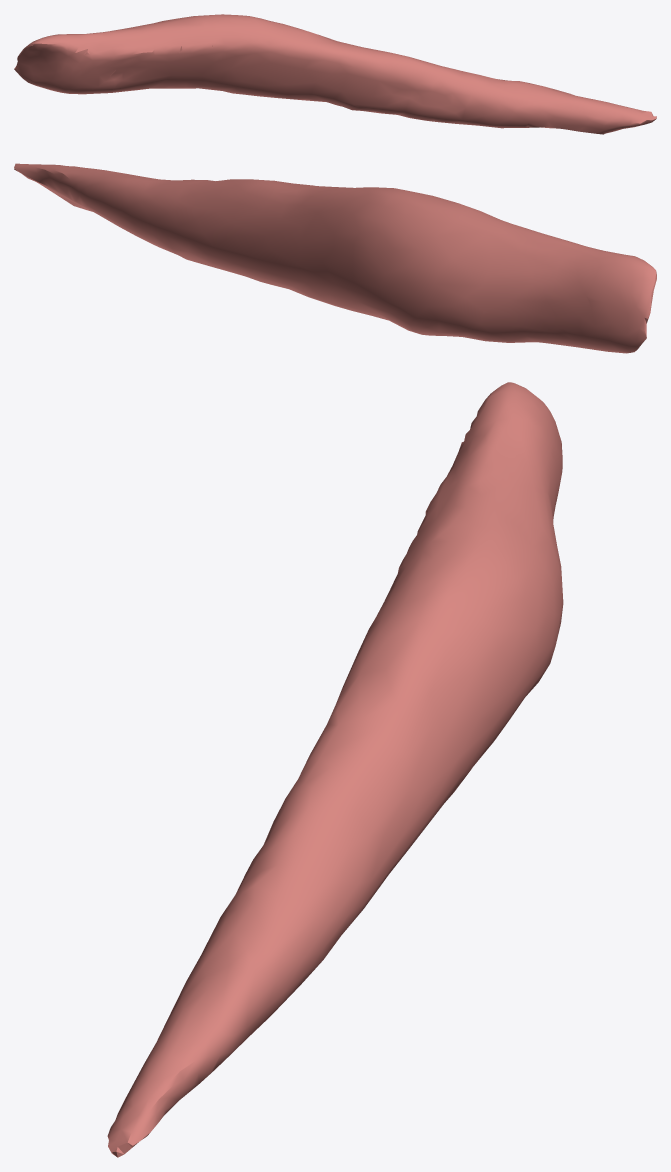
Rendered from fma22335_mm1668.glb.
3 views of the same model, one above another, from view 1: azimuth 30°, elevation 25°; view 2: azimuth 150°, elevation 25°; view 3: azimuth 270°, elevation 25° (orthographic). The views are drawn at different scales.
Parts seen in each view (by area): view 1: FMA22335_MM1668; view 2: FMA22335_MM1668; view 3: FMA22335_MM1668.
Part boxes in pixels (x1,y1,x2,y2): FMA22335_MM1668: [14, 14, 656, 134]; FMA22335_MM1668: [14, 163, 656, 353]; FMA22335_MM1668: [107, 382, 563, 1157].
Size of the model in its own units: 0.0865 by 0.0224 by 0.0321.
